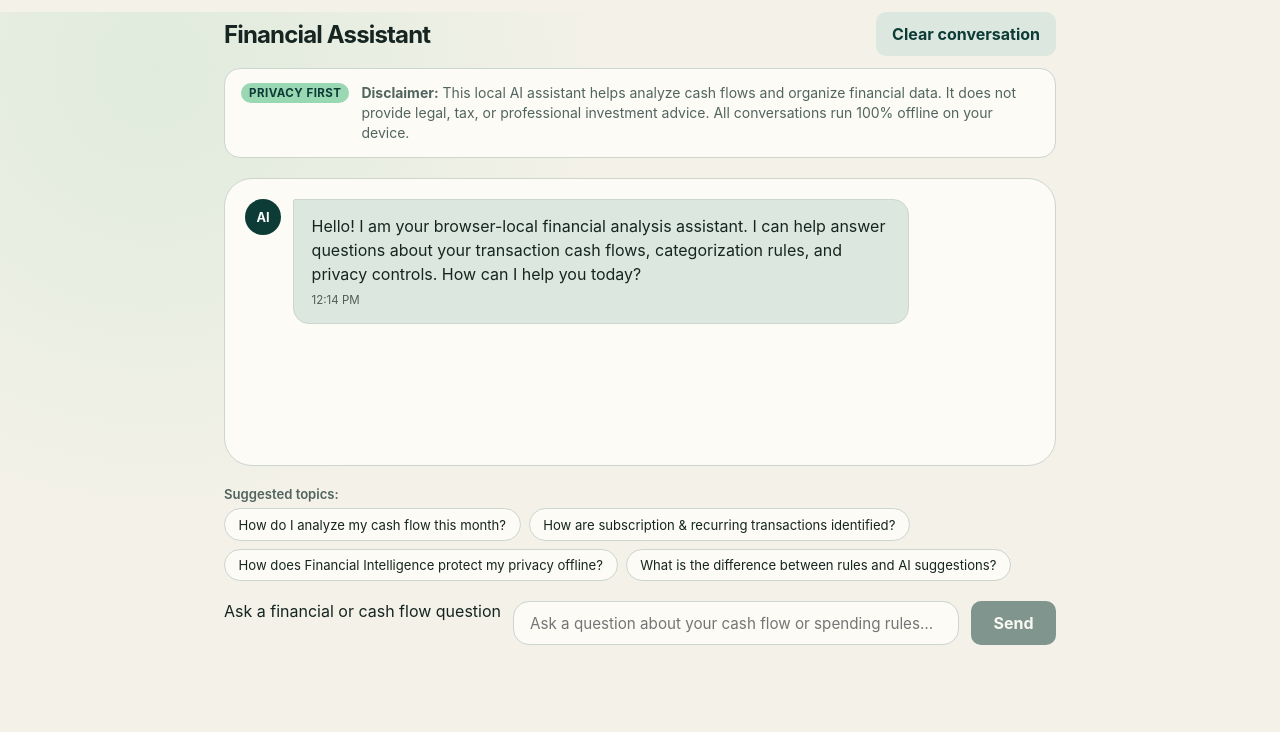
Test case: ChatPage › sends user message and displays assistant response
Expected: the heading "Financial Assistant" is shown, [224,20,430,48]
In the field with placeholder "Ask a question about your cash flow or spending rules…": (736, 623) [513,601,959,645], type "How do rules work?"
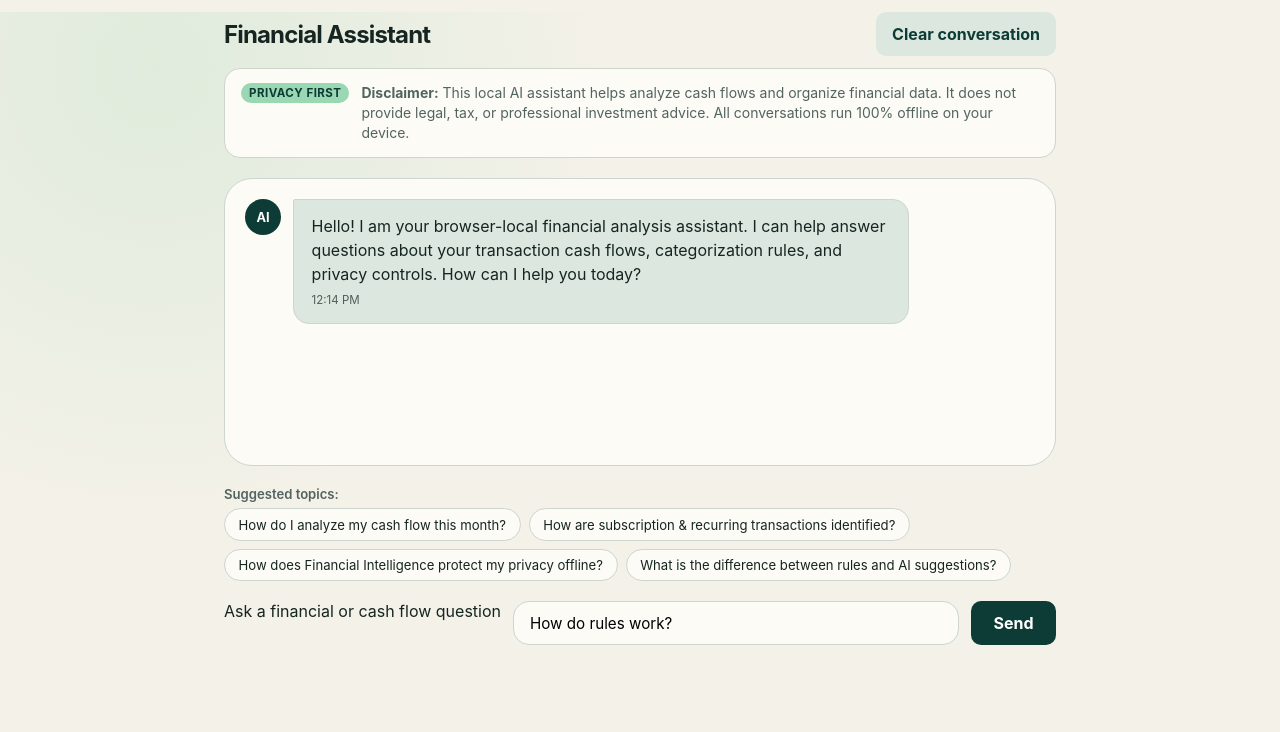
Click the button "Send": (1014, 623) [971,601,1056,645]
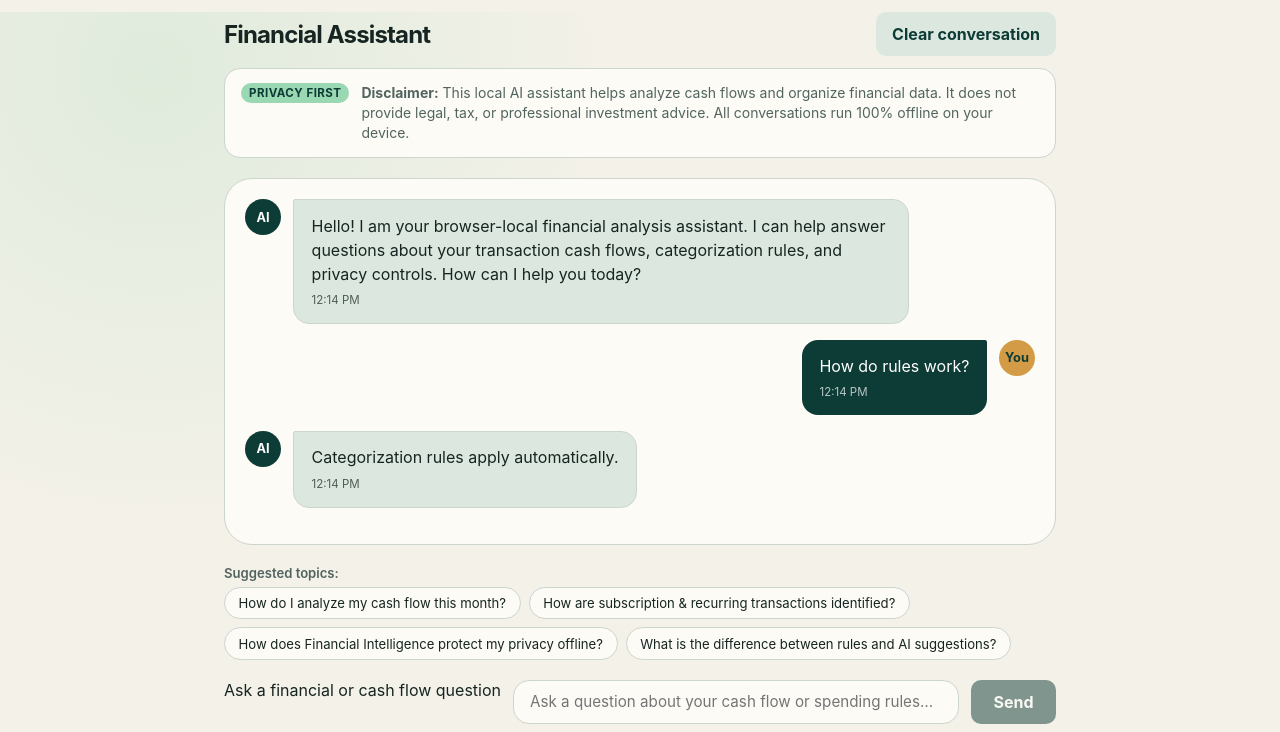
Result: the text "How do rules work?" is shown at [820,354,970,378]
Result: the text "Categorization rules apply automatically." is shown at [312,445,618,469]
